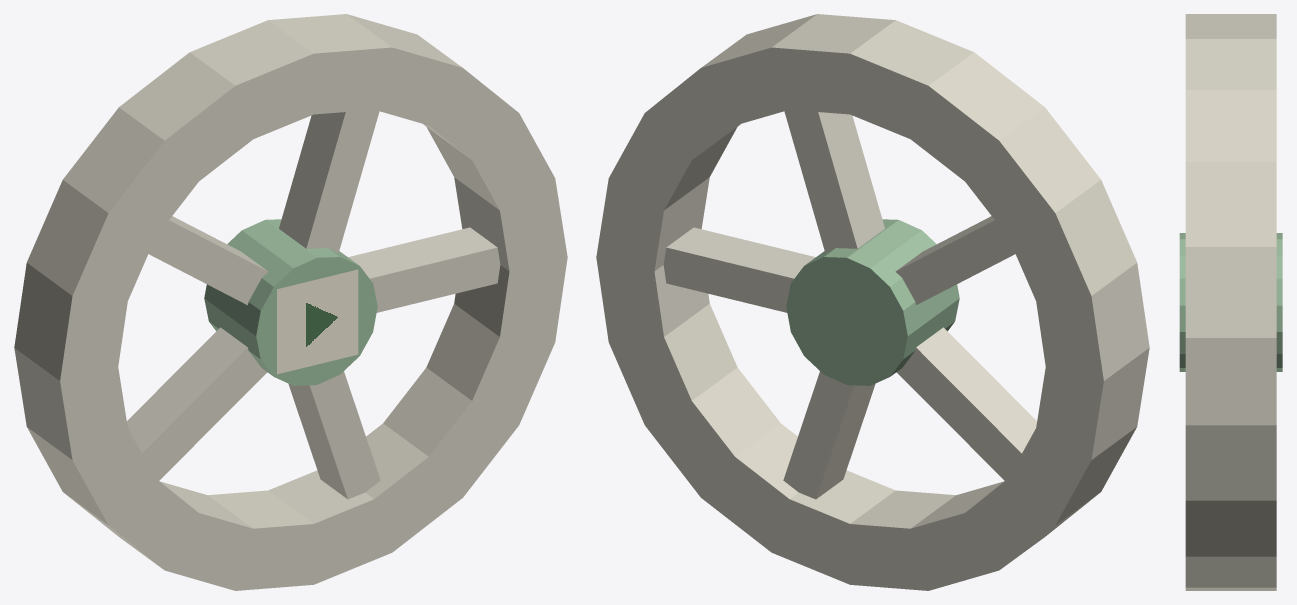
Rendered from video-reel.glb.
The picture shows the model from 3 angles, left to right: view 1: azimuth 30°, elevation 25°; view 2: azimuth 150°, elevation 25°; view 3: azimuth 270°, elevation 25°; orthographic projection.
Visible parts, largest first — view 1: video-reel; view 2: video-reel; view 3: video-reel.
Boxes of the visible parts, x1,y1,x2,y2 form: video-reel: (14, 14, 567, 590); video-reel: (596, 14, 1149, 590); video-reel: (1179, 14, 1282, 590).
Bounding box in the file's own units: 0.96 × 0.96 × 0.172.
Materials: 4 (1 with a texture image).
